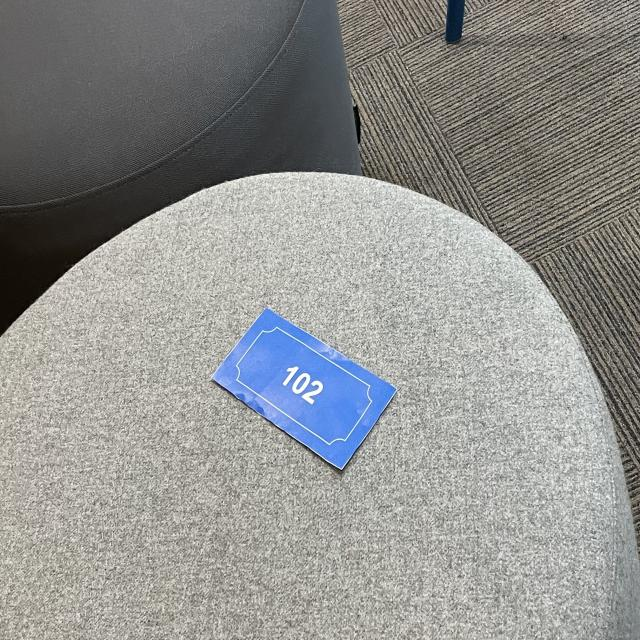Card: (207, 286, 402, 489)
